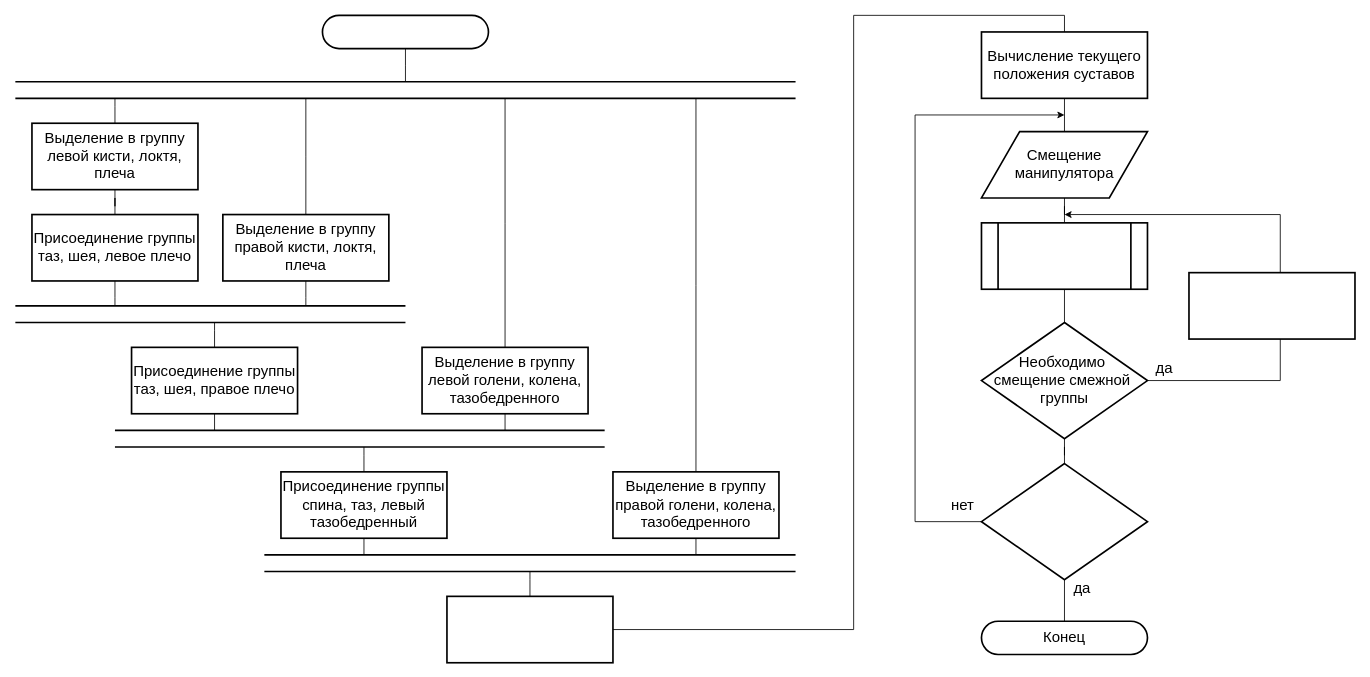
This 1370x677 diagram has some shape labels left out. The centre of each missing label's shape, as x and y in pixels:
Завершить программу?: point (1064, 521)
Начало: point (405, 31)
Подпрограмма смещения сустава: point (1064, 256)
Присоединение группы спина, таз, правый тазобедренный: point (529, 629)
Сохранение координат суставов смежной группы: point (1271, 305)
